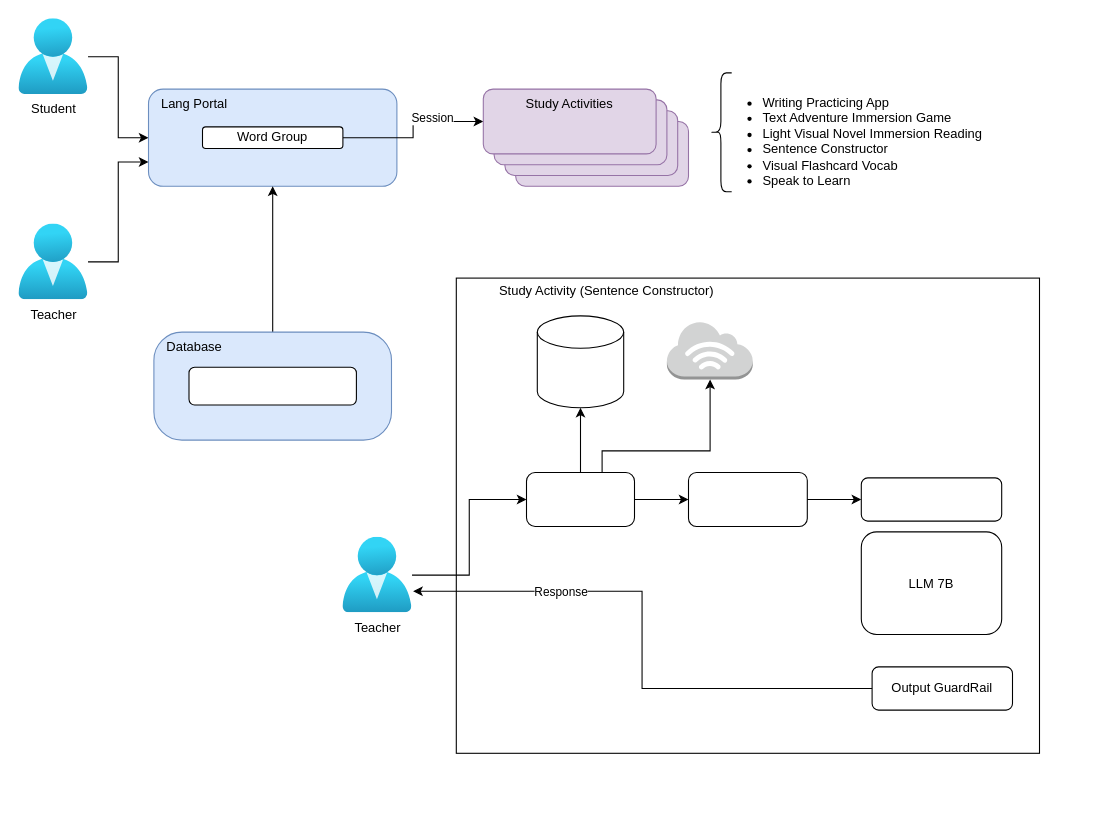
This 1111x836 diagram has some shape labels left out. Here are the shapes that lost their labels. From the top down, the centre of each, then its label:
At point 580,361: "Vector Database".
At point 272,385: "Core 2000 words".
At point 579,498: "RAG".
At point 747,498: "Prompt Cache".
At point 931,499: "Input GuardRail".
